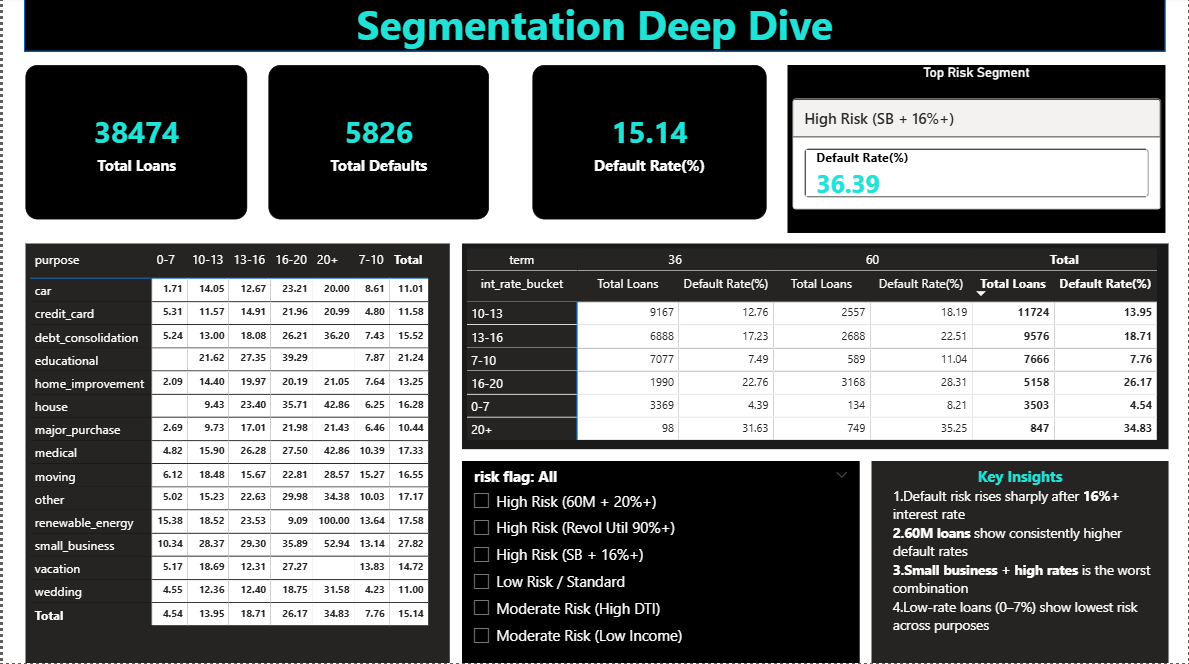

The dashboard page shown, as its layout file describes it:
{"tool":"powerbi","page":{"name":"Segmentation Deep Dive","canvas":[1280,720],"ordinal":3},"visuals":[{"type":"pivotTable","fields":{"Rows":["loan_default_cleaned.int_rate_bucket"],"Columns":["loan_default_cleaned.term"],"Values":["loan_default_cleaned.Total Loans","loan_default_cleaned.Default Rate(%)"]},"box":[495.5,267.2,762.7,221.8],"z":0},{"type":"pivotTable","fields":{"Rows":["loan_default_cleaned.purpose"],"Columns":["loan_default_cleaned.int_rate_bucket"],"Values":["loan_default_cleaned.Default Rate(%)"]},"box":[24.3,267.2,458.2,453.4],"z":1000},{"type":"slicer","fields":{"Values":["loan_default_cleaned.risk_flag"]},"box":[495.5,502,429.1,218.6],"z":2000},{"type":"shape","box":[22.7,0,1232.2,59.9],"z":3000},{"type":"card","fields":{"Values":["loan_default_cleaned.Total Loans"]},"box":[24.3,74.5,239.6,166.8],"z":4000},{"type":"card","fields":{"Values":["loan_default_cleaned.Total Defaults"]},"box":[286.6,74.5,238,166.8],"z":5000},{"type":"card","fields":{"Values":["loan_default_cleaned.Default Rate(%)"]},"box":[571.6,74.5,252.6,166.8],"z":6000},{"type":"cardVisual","title":"Top Risk Segment","fields":{"Rows":["loan_default_cleaned.risk_flag"],"Data":["loan_default_cleaned.Default Rate(%)"]},"box":[846.9,74.5,408,181.4],"z":7000},{"type":"textbox","box":[937.5,502,320.6,218.6],"z":8000}]}

Visuals, with their boxes in screenshot pixels (x1, y1, x2, y2), scaled from the page's 1280x720 canvas onto the 1189x664 screenshot:
pivotTable - loan_default_cleaned.int_rate_bucket x loan_default_cleaned.term: [460, 246, 1169, 451]
pivotTable - loan_default_cleaned.purpose x loan_default_cleaned.int_rate_bucket: [23, 246, 448, 663]
slicer - loan_default_cleaned.risk_flag: [460, 463, 859, 663]
shape: [21, 0, 1166, 55]
card - loan_default_cleaned.Total Loans: [23, 69, 245, 223]
card - loan_default_cleaned.Total Defaults: [266, 69, 487, 223]
card - loan_default_cleaned.Default Rate(%): [531, 69, 766, 223]
"Top Risk Segment" cardVisual: [787, 69, 1166, 236]
textbox: [871, 463, 1169, 663]
